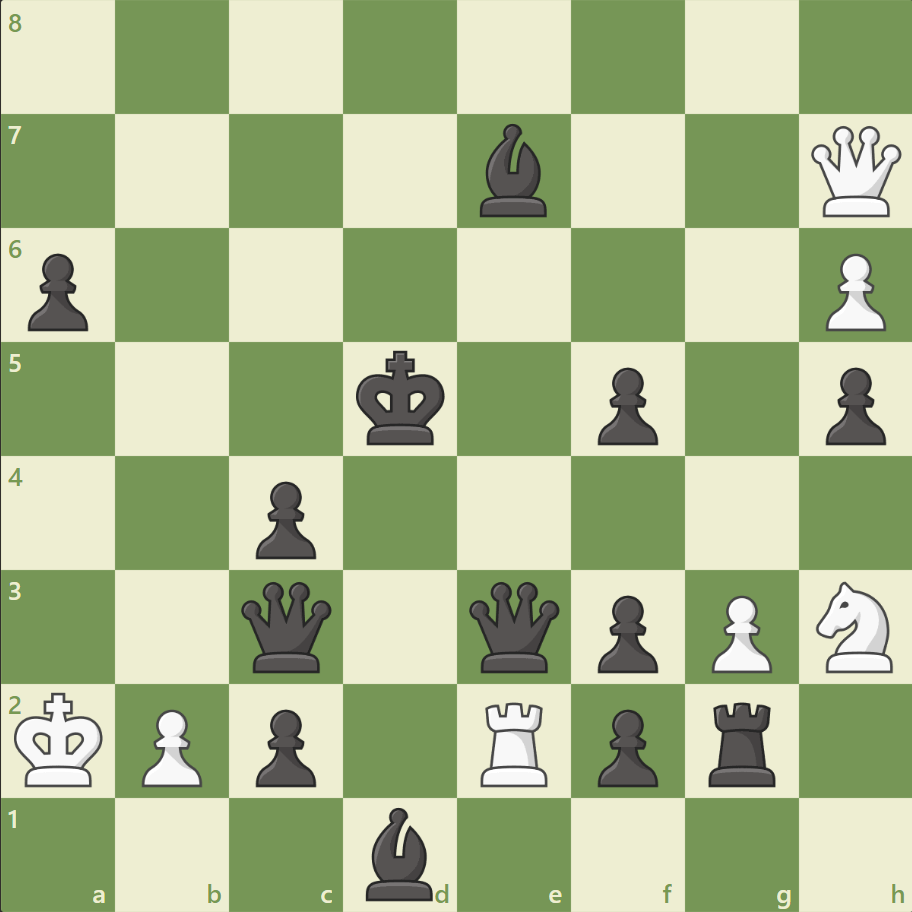K: (11, 685, 111, 793)
N: (806, 575, 903, 677)
P: (701, 586, 776, 677), (133, 700, 208, 791), (815, 246, 889, 337)
Q: (805, 122, 904, 222)
R: (473, 693, 556, 790)
b: (358, 801, 442, 904), (471, 120, 555, 222)
k: (351, 344, 451, 452)
p: (20, 246, 95, 337), (247, 473, 322, 564), (247, 700, 322, 791), (588, 359, 662, 450), (815, 359, 889, 450), (588, 586, 662, 677), (588, 700, 662, 791)
q: (237, 576, 336, 676), (464, 576, 563, 676)
r: (700, 693, 783, 790)
